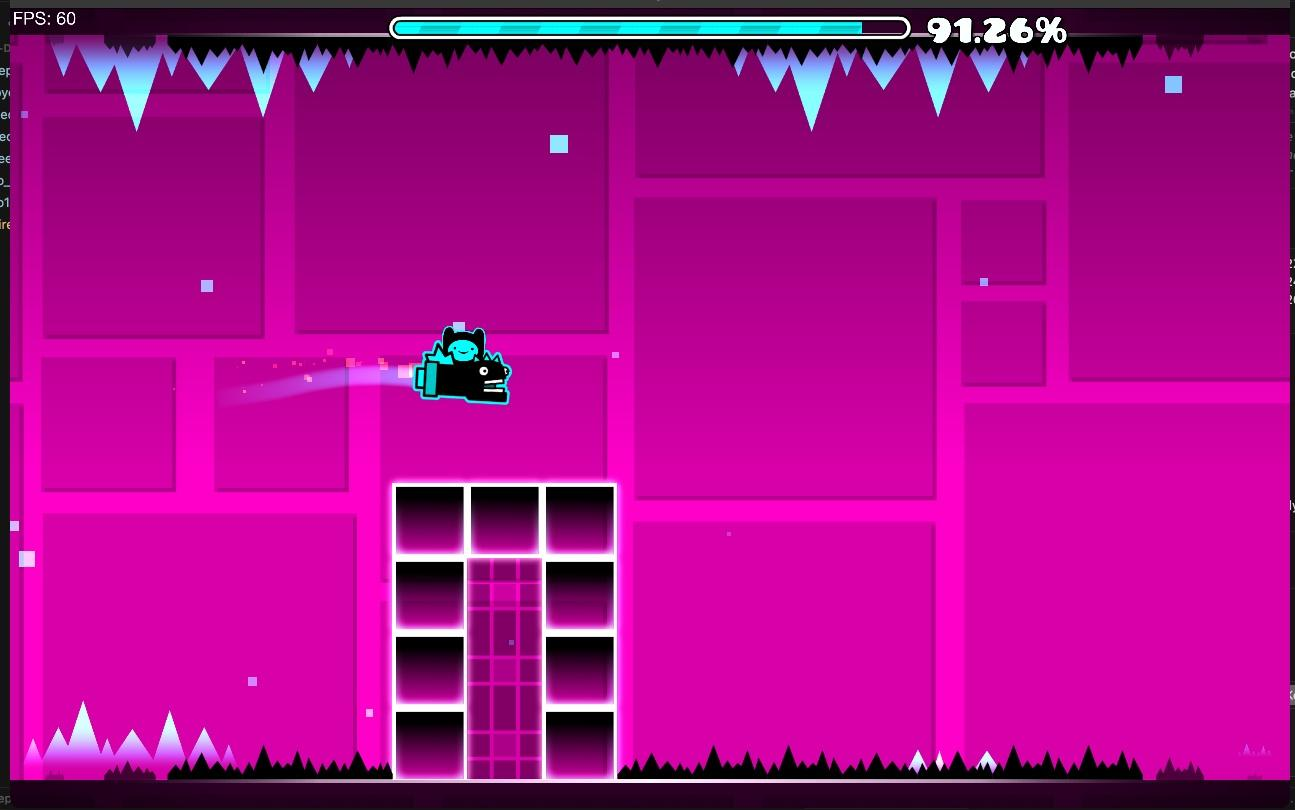block: (394, 484, 616, 561)
spaceship: (412, 327, 510, 404)
spike: (24, 711, 390, 779), (735, 48, 1010, 128), (51, 37, 286, 128), (623, 749, 1143, 780), (293, 45, 363, 91)
